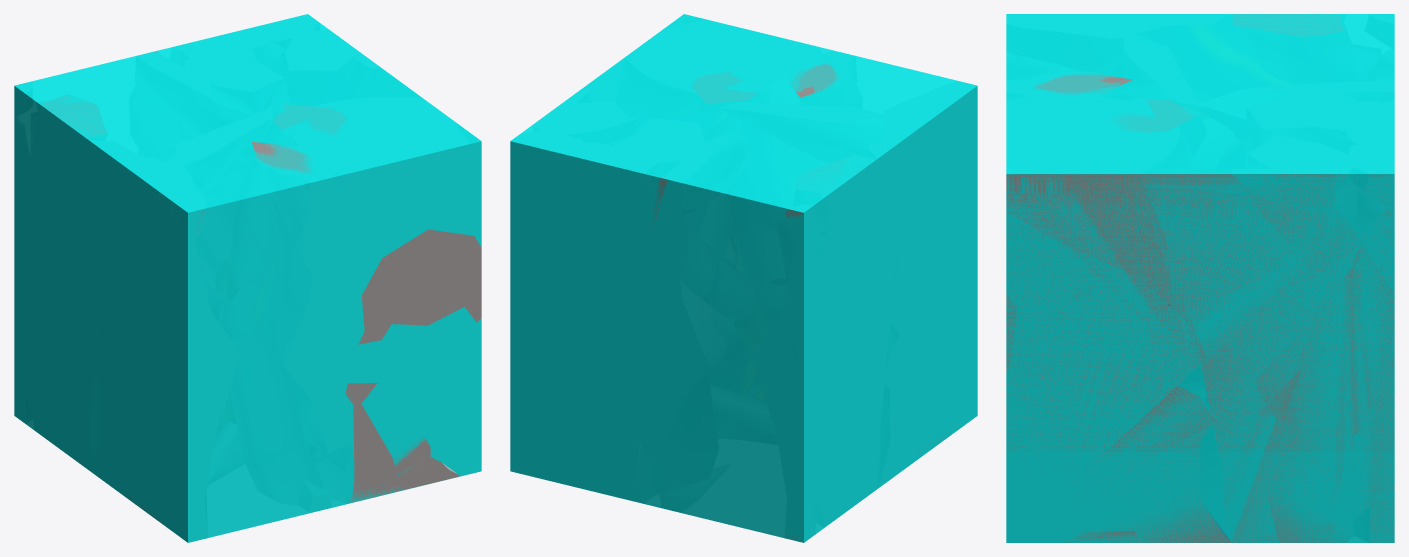
File: Wolf_Parts.fbx
The picture shows the model from 3 angles, left to right: view 1: azimuth 30°, elevation 25°; view 2: azimuth 150°, elevation 25°; view 3: azimuth 270°, elevation 25°; orthographic projection. The views are drawn at different scales.
Parts seen in each view (by area): view 1: Wolf_Parte02, Wolf_Parte17, Wolf_Parte03, Wolf_Parte06, Wolf_Parte22, Wolf_Parte14, Wolf_Parte15, Wolf_Parte12, Wolf_Parte10, Wolf_Parte11, Wolf_Parte25, Wolf_Parte28; view 2: Wolf_Parte16, Wolf_Parte06, Wolf_Parte29, Wolf_Parte03, Wolf_Parte02, Wolf_Parte09, Wolf_Parte17, Wolf_Parte11, Wolf_Parte04, Wolf_Parte10, Wolf_Parte12, Wolf_Parte25 (+1 smaller); view 3: Wolf_Parte02, Wolf_Parte20, Wolf_Parte17, Wolf_Parte23, Wolf_Parte09, Wolf_Parte05, Wolf_Parte21, Wolf_Parte16, Wolf_Parte12, Wolf_Parte26, Wolf_Parte30, Wolf_Parte10 (+9 smaller).
Boxes of the visible parts, x1,y1,x2,y2 form: Wolf_Parte02: (15, 14, 481, 522); Wolf_Parte17: (15, 14, 481, 542); Wolf_Parte03: (14, 86, 331, 542); Wolf_Parte06: (14, 86, 187, 542); Wolf_Parte22: (188, 210, 481, 542); Wolf_Parte14: (188, 145, 481, 457); Wolf_Parte15: (188, 141, 481, 302); Wolf_Parte12: (150, 130, 481, 245); Wolf_Parte10: (152, 130, 479, 211); Wolf_Parte11: (41, 95, 107, 137); Wolf_Parte25: (273, 104, 346, 134); Wolf_Parte28: (252, 141, 313, 173); Wolf_Parte16: (510, 142, 803, 532); Wolf_Parte06: (510, 86, 977, 542); Wolf_Parte29: (510, 141, 803, 537); Wolf_Parte03: (804, 86, 977, 542); Wolf_Parte02: (511, 14, 976, 458); Wolf_Parte09: (510, 142, 803, 541); Wolf_Parte17: (511, 30, 952, 212); Wolf_Parte11: (510, 145, 844, 534); Wolf_Parte04: (510, 144, 803, 542); Wolf_Parte10: (663, 15, 976, 103); Wolf_Parte12: (662, 14, 835, 58); Wolf_Parte25: (692, 71, 758, 104); Wolf_Parte02: (1006, 14, 1394, 542); Wolf_Parte20: (1006, 174, 1394, 542); Wolf_Parte17: (1056, 14, 1394, 542); Wolf_Parte23: (1006, 174, 1394, 542); Wolf_Parte09: (1006, 276, 1394, 542); Wolf_Parte05: (1006, 175, 1393, 542); Wolf_Parte21: (1012, 174, 1394, 542); Wolf_Parte16: (1008, 174, 1394, 507); Wolf_Parte12: (1006, 14, 1074, 173); Wolf_Parte26: (1008, 174, 1393, 446); Wolf_Parte30: (1006, 174, 1392, 452); Wolf_Parte10: (1007, 14, 1064, 173).
Size of the model in its own units: 36.65 by 39.37 by 37.57.
